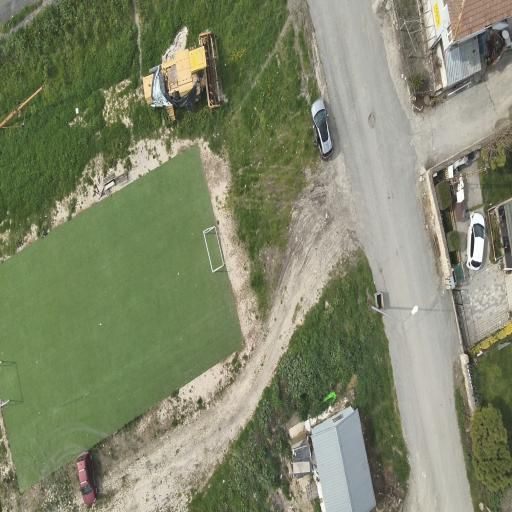car: (311, 99, 333, 159), (466, 212, 485, 270), (77, 452, 96, 504)
harvester: (143, 32, 222, 119)
